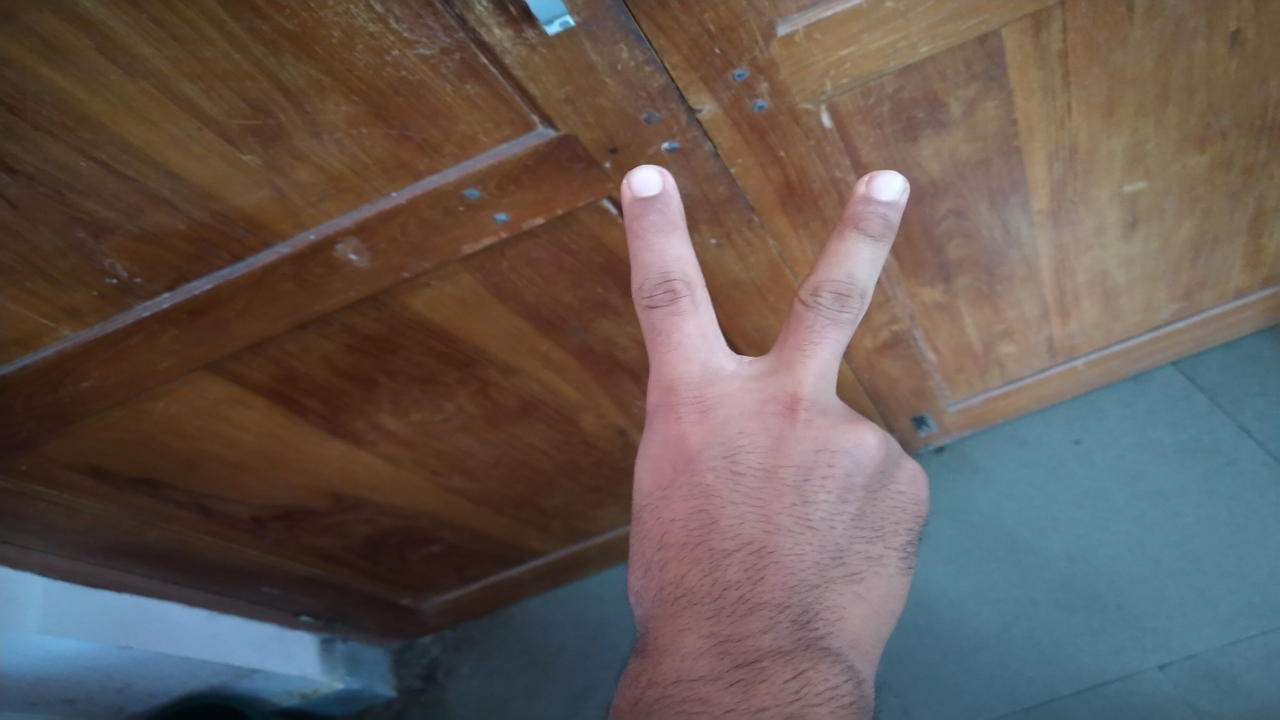fingertip: (610, 156, 682, 226), (856, 162, 920, 224)
